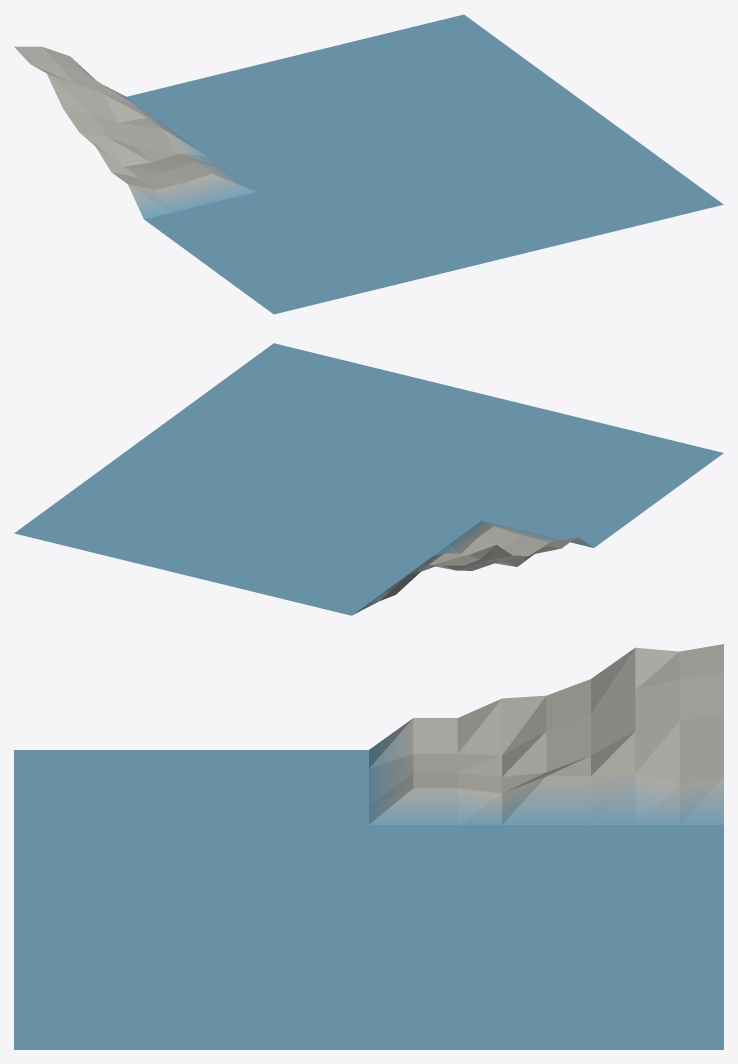
3 views of the same model, one above another, from view 1: azimuth 30°, elevation 25°; view 2: azimuth 150°, elevation 25°; view 3: azimuth 270°, elevation 25° (orthographic). The views are drawn at different scales.
Size of the model in its own units: 32 by 5.27 by 32.
